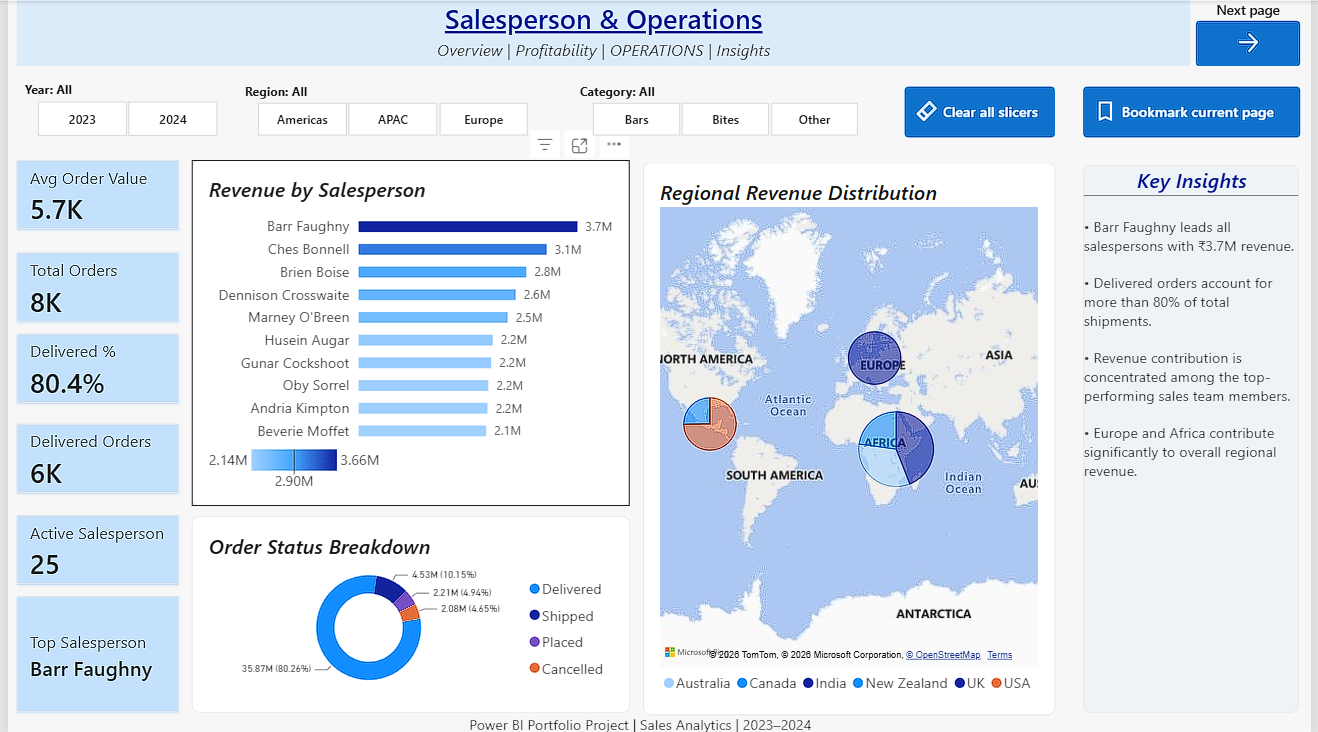

The dashboard page shown, as its layout file describes it:
{"tool":"powerbi","page":{"name":"Salesperson & Operations","canvas":[1280,720],"ordinal":3},"visuals":[{"type":"barChart","title":"Revenue by Salesperson","fields":{"Y":["calendar.Total revenue"],"Category":["people.Sales_person"]},"box":[180.4,157.1,430.7,339.9],"z":0},{"type":"map","title":"Regional Revenue Distribution","fields":{"Series":["locations.Geo"],"Size":["calendar.Total revenue"],"Category":["locations.Region"]},"box":[623.3,159.5,404.9,542.3],"z":1000},{"type":"donutChart","title":"Order Status Breakdown","fields":{"Y":["Measures table.Total revenue"],"Category":["shipments.Order_Status"]},"box":[180.4,506.8,430.7,192.6],"z":2000},{"type":"cardVisual","fields":{"Data":["calendar.Average Order Value"]},"box":[8.6,157.1,159.5,68.7],"z":3000},{"type":"actionButton","title":"Next page ","box":[1165.7,0,103.1,65],"z":4000},{"type":"textbox","title":"Salesperson & Operations","box":[8.7,0,1152.2,64.6],"z":5000},{"type":"slicer","fields":{"Values":["calendar.cal_date.Variation.Date Hierarchy.Year"]},"box":[8.6,79.8,216,55.2],"z":6000},{"type":"slicer","fields":{"Values":["locations.Region"]},"box":[224.7,81.5,304.9,54.3],"z":7000},{"type":"slicer","fields":{"Values":["products.Category"]},"box":[553.1,81.5,300,54.3],"z":8000},{"type":"actionButton","box":[880.2,85.2,148.1,50.6],"z":9000},{"type":"actionButton","box":[1055.6,85.2,213.6,50.6],"z":10000},{"type":"cardVisual","fields":{"Data":["Measures table.Total Orders"]},"box":[8.6,247.9,159.5,68.7],"z":11000},{"type":"cardVisual","fields":{"Data":["Measures table.Delivered %"]},"box":[8.6,327.6,159.5,68.7],"z":12000},{"type":"cardVisual","fields":{"Data":["Measures table.Active Salespersons"]},"box":[8.6,505.5,159.5,68.7],"z":13000},{"type":"cardVisual","fields":{"Data":["Measures table.Top Salesperson Name"]},"box":[8.6,585.3,159.5,114.1],"z":14000},{"type":"textbox","title":"Key Insights","box":[1055.2,162,212.3,537.4],"z":15000},{"type":"textbox","box":[452.8,701.8,341.1,18.4],"z":16000},{"type":"cardVisual","fields":{"Data":["Measures table.Delivered Orders"]},"box":[8.6,416,159.5,68.7],"z":17000}]}

Visuals, with their boxes in screenshot pixels (x1, y1, x2, y2), scaled from the page's 1280x720 canvas onto the 1318x732 screenshot:
"Revenue by Salesperson" barChart: box(186, 160, 629, 505)
"Regional Revenue Distribution" map: box(642, 162, 1059, 713)
"Order Status Breakdown" donutChart: box(186, 515, 629, 711)
cardVisual - calendar.Average Order Value: box(9, 160, 173, 230)
"Next page " actionButton: box(1200, 0, 1306, 66)
"Salesperson & Operations" textbox: box(9, 0, 1195, 66)
slicer - calendar.cal_date.Variation.Date Hierarchy.Year: box(9, 81, 231, 137)
slicer - locations.Region: box(231, 83, 545, 138)
slicer - products.Category: box(570, 83, 878, 138)
actionButton: box(906, 87, 1059, 138)
actionButton: box(1087, 87, 1307, 138)
cardVisual - Measures table.Total Orders: box(9, 252, 173, 322)
cardVisual - Measures table.Delivered %: box(9, 333, 173, 403)
cardVisual - Measures table.Active Salespersons: box(9, 514, 173, 584)
cardVisual - Measures table.Top Salesperson Name: box(9, 595, 173, 711)
"Key Insights" textbox: box(1087, 165, 1305, 711)
textbox: box(466, 713, 817, 731)
cardVisual - Measures table.Delivered Orders: box(9, 423, 173, 493)
